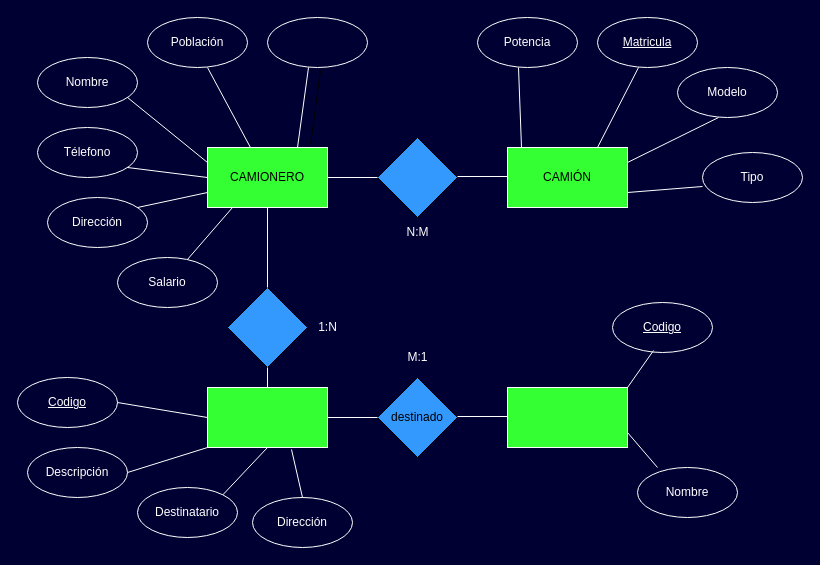
Some shapes in this 820 by 565 pixel diagram are drawn without their labels. The box of each missing label's shape, as (x1, y1, x2, y2) in pixels:
CIUDAD: (506, 386, 628, 448)
conduce: (376, 136, 458, 218)
distribuye: (226, 286, 308, 368)
PAQUETE: (206, 386, 328, 448)
RFC: (266, 16, 368, 68)
